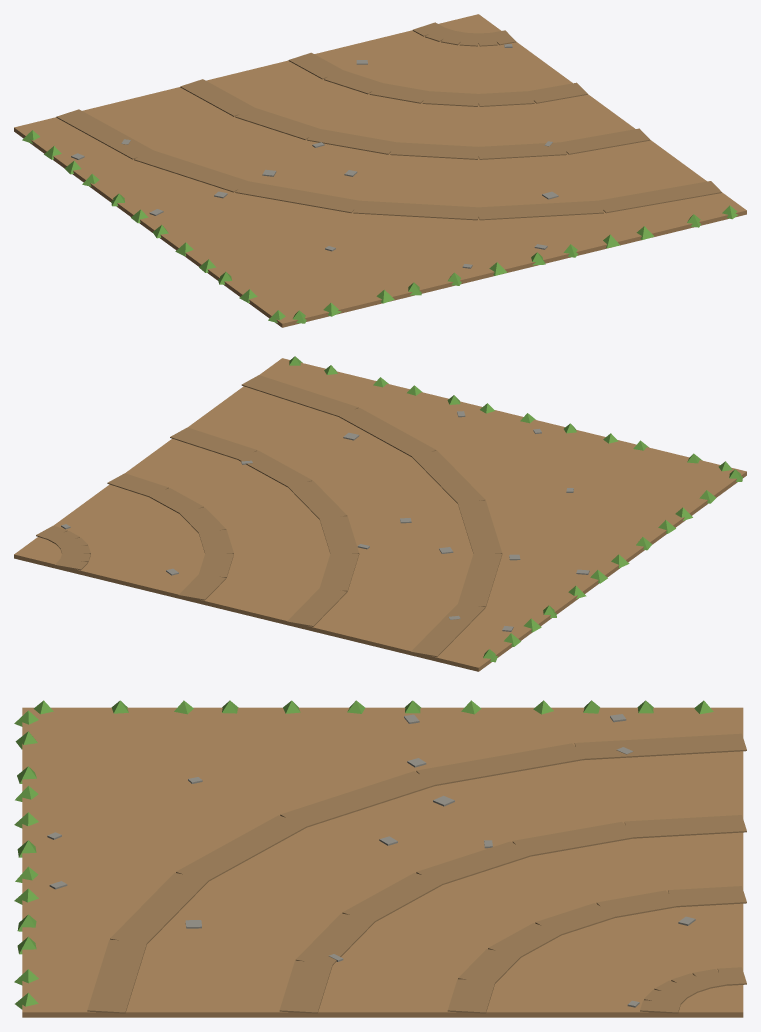
Rendered from road_dirt_twoway_corner.glb.
3 renders of one model, top to bottom at view 1: azimuth 30°, elevation 25°; view 2: azimuth 150°, elevation 25°; view 3: azimuth 270°, elevation 25°, orthographic. The views are drawn at different scales.
Visible parts, largest first — view 1: road_dirt_twoway_corner.001; view 2: road_dirt_twoway_corner.001; view 3: road_dirt_twoway_corner.001.
Part boxes in pixels (x1,y1,x2,y2): road_dirt_twoway_corner.001: (14,14,746,327); road_dirt_twoway_corner.001: (14,356,746,671); road_dirt_twoway_corner.001: (14,700,746,1017).
Size of the model in its own units: 6.1 by 0.14 by 6.1.
Materials: 1 (1 with a texture image).
